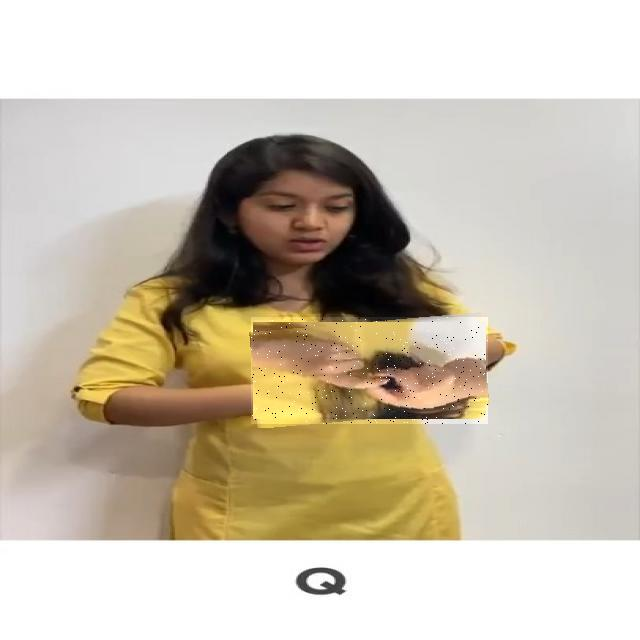Q: (251, 317, 488, 424)
